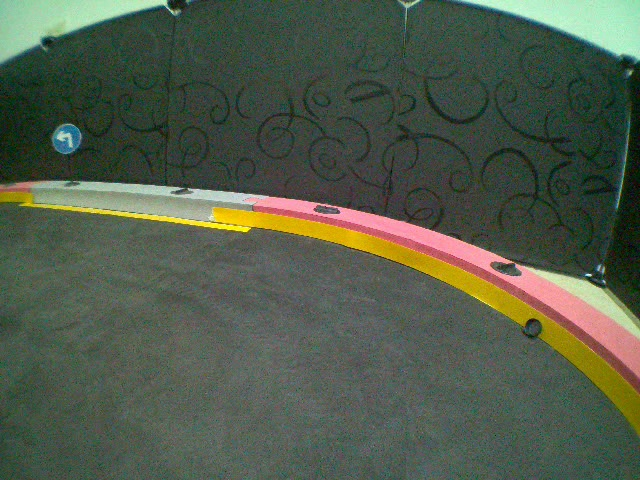turn: (50, 121, 84, 157)
